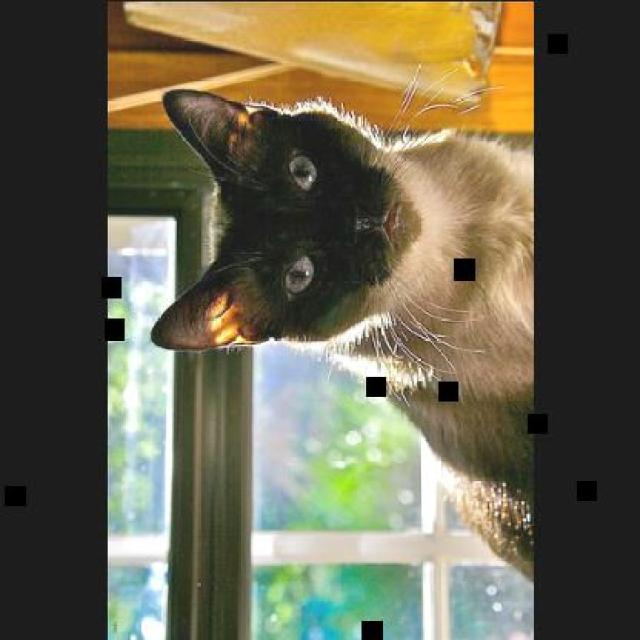unauthorized: (149, 60, 534, 582)
